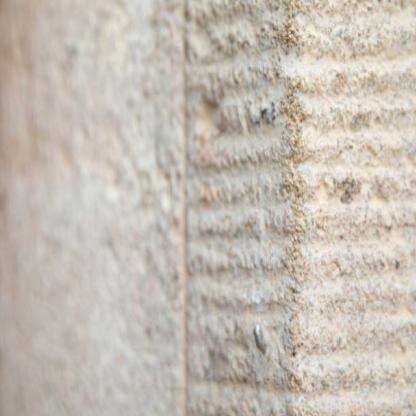Sedimentary_Sandstone: (2, 1, 415, 415)
